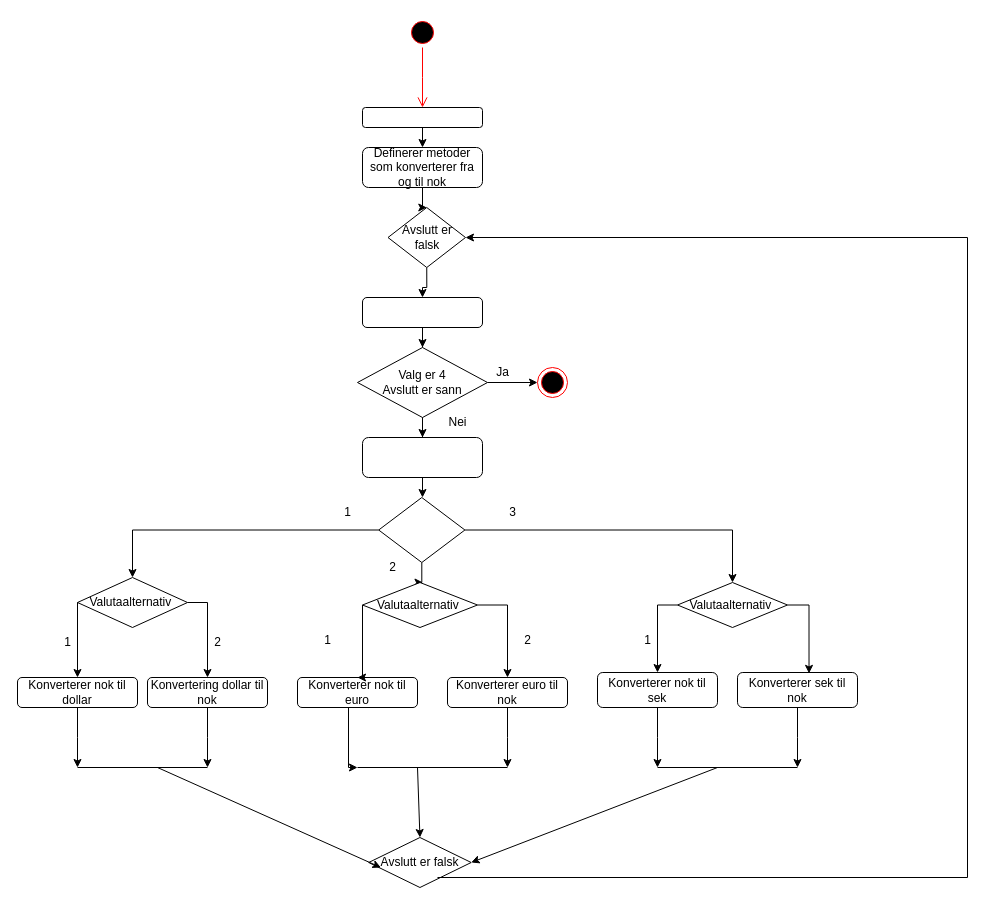
Some shapes in this 993 by 905 pixel diagram are drawn without their labels. The centre of each missing label's shape, as x and y in pixels:
Hvis valutaalternativer: the point at 422,457
Oppretter scanner: the point at 422,117
Valg er 1, 2 eller 3: the point at 421,529
Viser menyvalg for valutaer: the point at 422,312
